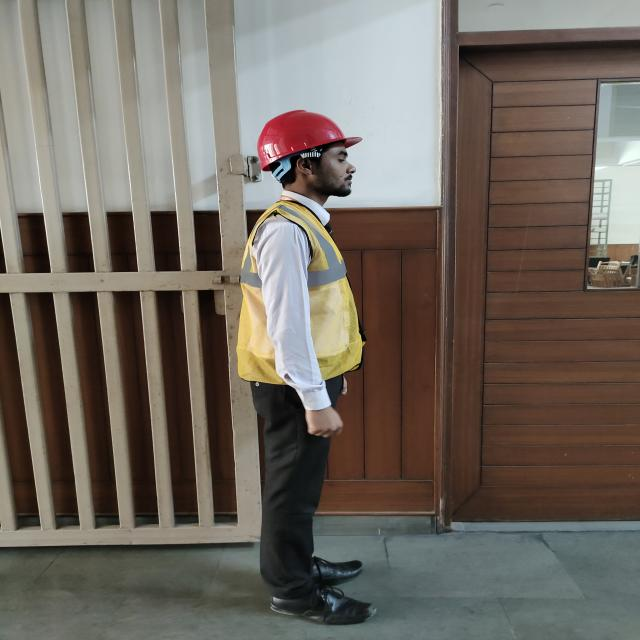safe: (241, 109, 364, 621)
